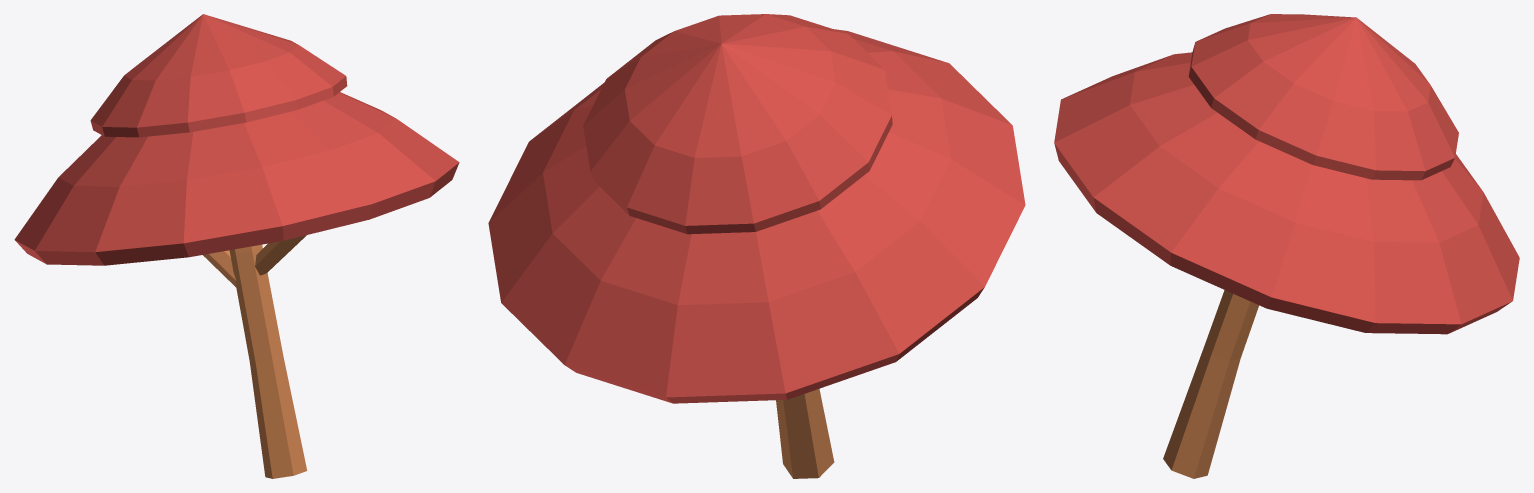
File: beach_umbrella_red.fbx
The picture shows the model from 3 angles, left to right: view 1: azimuth 30°, elevation 25°; view 2: azimuth 150°, elevation 25°; view 3: azimuth 270°, elevation 25°; orthographic projection. The views are drawn at different scales.
Parts seen in each view (by area): view 1: beach_umbrella_red; view 2: beach_umbrella_red; view 3: beach_umbrella_red.
Boxes of the visible parts, left/top/right/bottom form: beach_umbrella_red: left=14, top=14, right=459, bottom=478; beach_umbrella_red: left=488, top=14, right=1025, bottom=478; beach_umbrella_red: left=1054, top=14, right=1519, bottom=478.
Size of the model in its own units: 234 by 235 by 218.
1 material, 1 textured.
